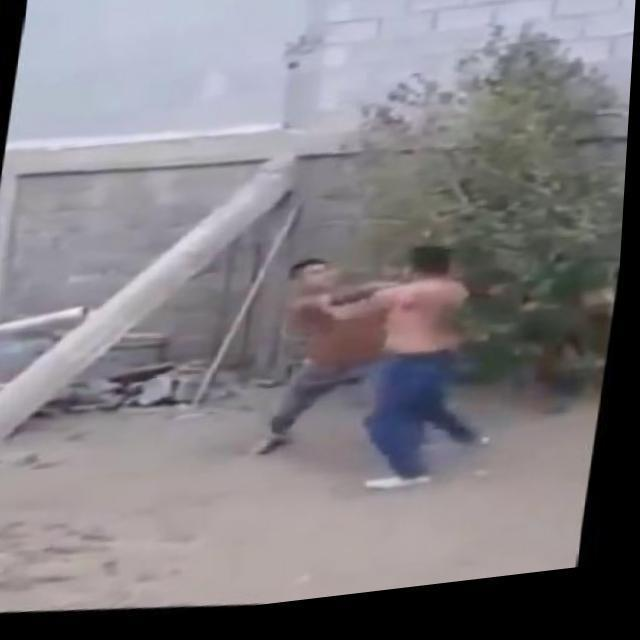fight: (247, 232, 516, 522)
